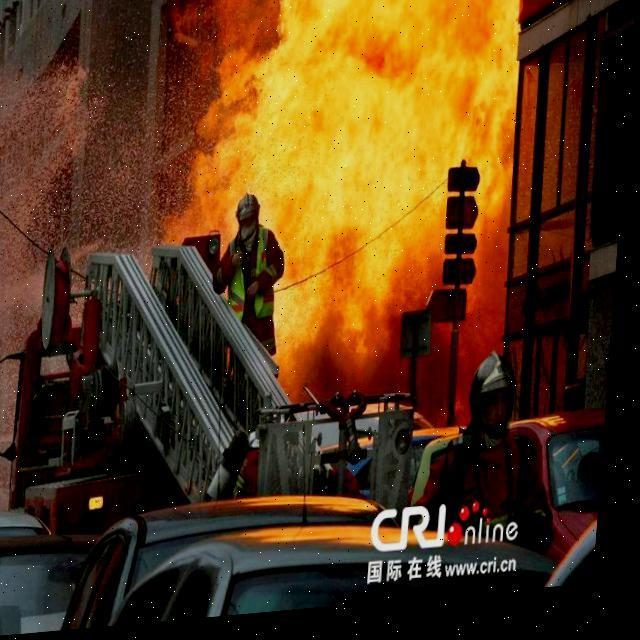Fire: (198, 0, 533, 402)
